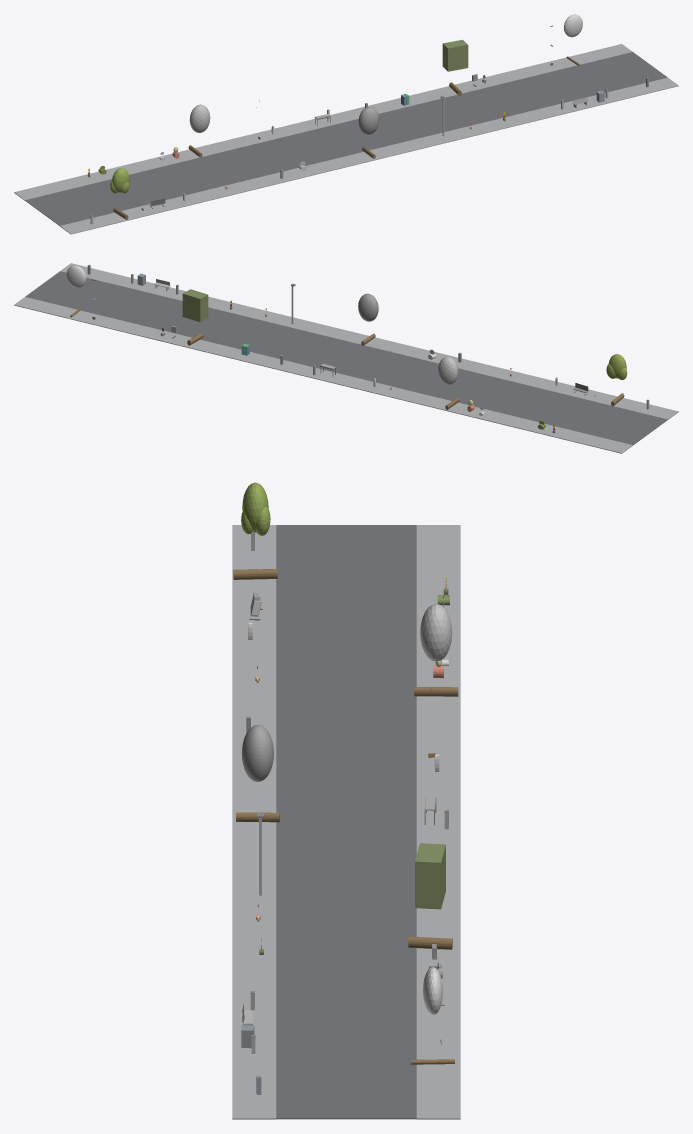
3 views of the same model, one above another, from view 1: azimuth 30°, elevation 25°; view 2: azimuth 150°, elevation 25°; view 3: azimuth 270°, elevation 25° (orthographic). The views are drawn at different scales.
Parts seen in each view (by area): view 1: road_slab, sidewalk_left, sidewalk_right, inst_0015, inst_0013, inst_0014, inst_0012, inst_0016; view 2: road_slab, sidewalk_right, sidewalk_left, inst_0015, inst_0013, inst_0014, inst_0012, inst_0016; view 3: road_slab, sidewalk_left, sidewalk_right, inst_0015, inst_0013, inst_0014, inst_0012, inst_0016.
Part boxes in pixels (<box>): road_slab: <box>25,52,667,225</box>; sidewalk_left: <box>60,77,678,234</box>; sidewalk_right: <box>14,44,632,200</box>; inst_0015: <box>442,39,468,95</box>; inst_0013: <box>188,104,210,157</box>; inst_0014: <box>358,107,379,158</box>; inst_0012: <box>110,168,129,219</box>; inst_0016: <box>563,14,582,66</box>; road_slab: <box>25,271,667,445</box>; sidewalk_right: <box>14,297,632,453</box>; sidewalk_left: <box>60,263,678,419</box>; inst_0015: <box>182,289,208,345</box>; inst_0013: <box>438,356,459,409</box>; inst_0014: <box>358,293,378,345</box>; inst_0012: <box>606,354,627,406</box>; inst_0016: <box>66,265,86,317</box>; road_slab: <box>276,525,416,1119</box>; sidewalk_left: <box>232,525,276,1119</box>; sidewalk_right: <box>416,525,460,1119</box>; inst_0015: <box>408,843,452,949</box>; inst_0013: <box>414,603,458,696</box>; inst_0014: <box>236,725,279,822</box>; inst_0012: <box>233,482,277,579</box>; inst_0016: <box>411,967,454,1064</box>.
Bounding box in the file's own units: 80 × 6.08 × 13.
